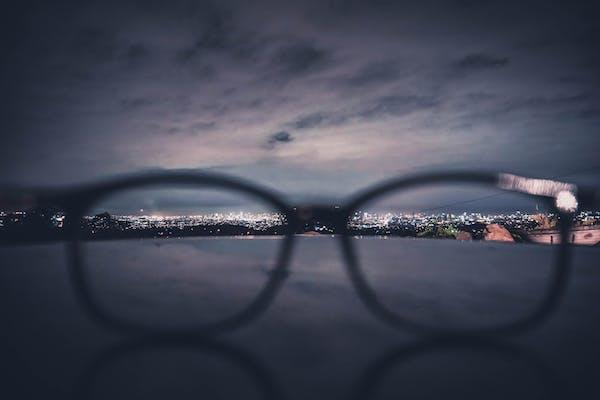spectacles: (20, 149, 600, 359)
